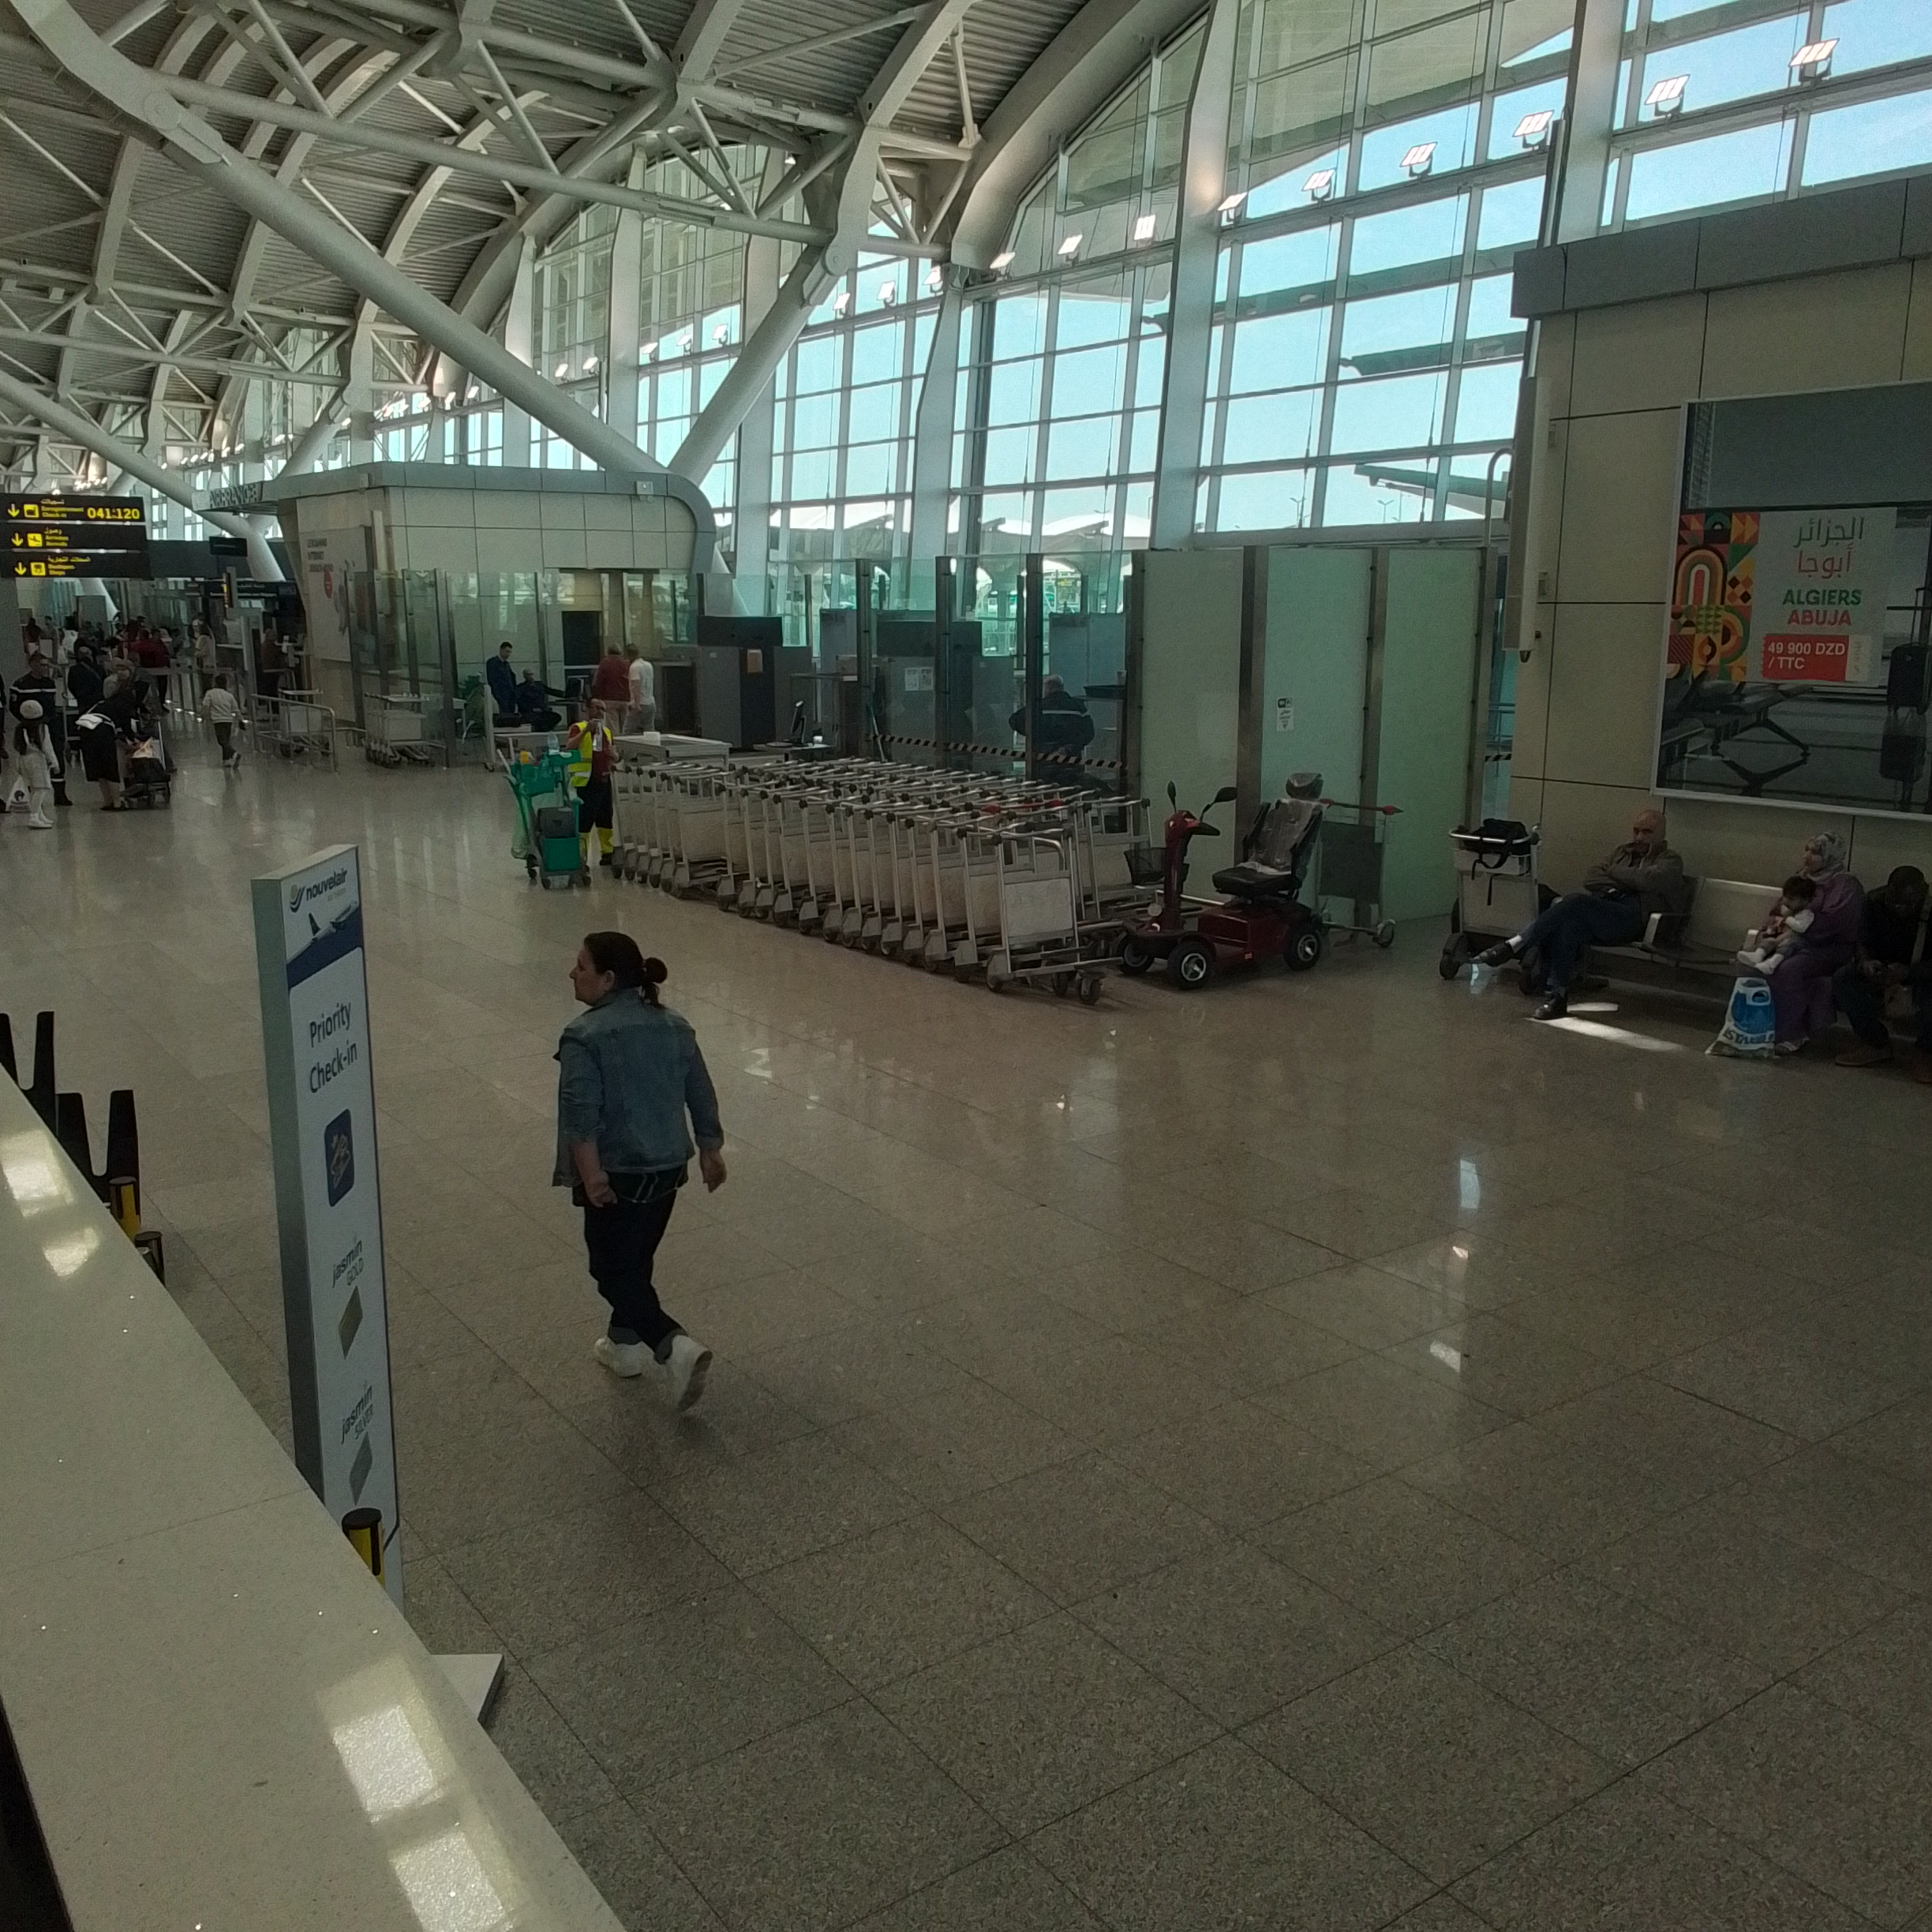airport-trolley: (994, 826, 1123, 994), (959, 824, 1090, 982), (927, 817, 1003, 971), (1086, 800, 1178, 922), (671, 773, 755, 897), (904, 812, 962, 962), (640, 764, 704, 899), (819, 800, 860, 950), (858, 803, 899, 952), (740, 771, 777, 925), (883, 809, 924, 947), (770, 782, 809, 918), (840, 801, 878, 943), (798, 794, 833, 936), (623, 759, 662, 867)
